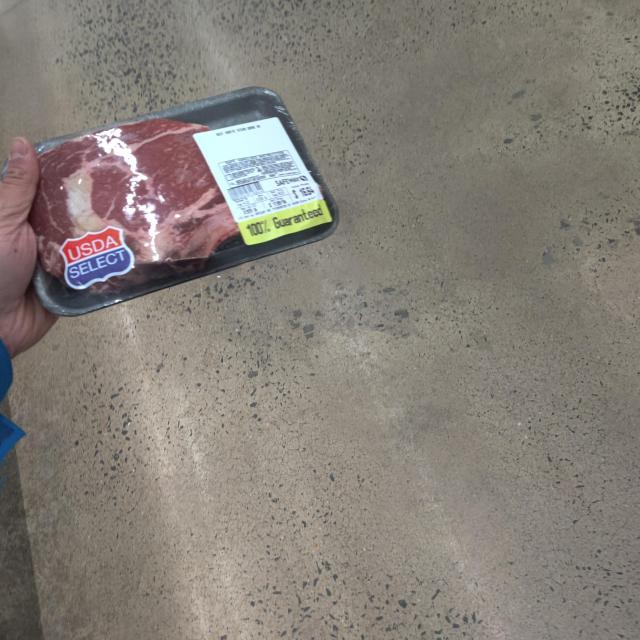Meat: (10, 92, 368, 321)
